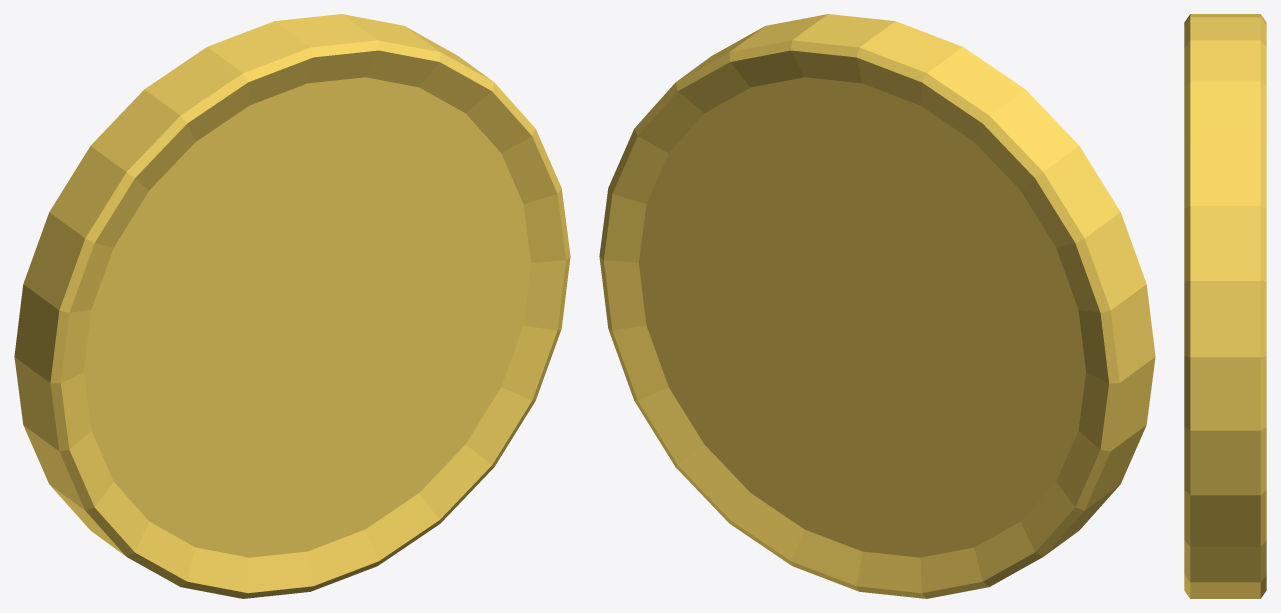
File: coin-gold-lowpoly-01.fbx
3 renders of one model, left to right at view 1: azimuth 30°, elevation 25°; view 2: azimuth 150°, elevation 25°; view 3: azimuth 270°, elevation 25°, orthographic. The views are drawn at different scales.
Visible parts, largest first — view 1: CoinGold; view 2: CoinGold; view 3: CoinGold.
Boxes of the visible parts, <box> form: CoinGold: <box>14,14,570,598</box>; CoinGold: <box>599,14,1155,598</box>; CoinGold: <box>1184,14,1266,598</box>.
Size of the model in its own units: 2 by 2 by 0.2797.
